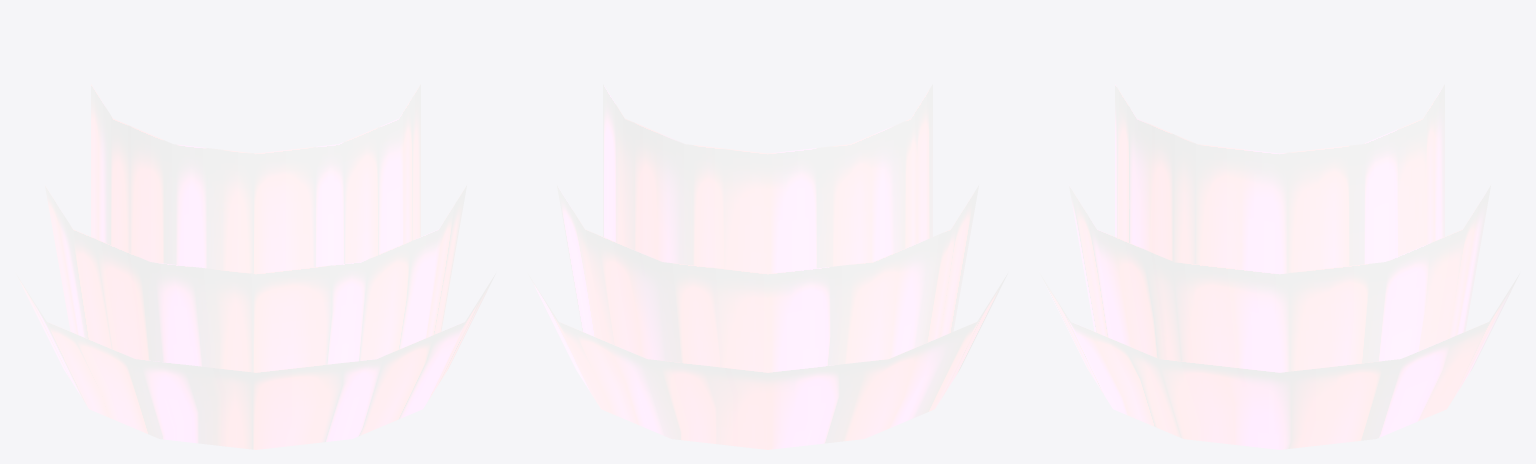
Rendered from sfx_common_condition_red.glb.
3 renders of one model, left to right at view 1: azimuth 30°, elevation 25°; view 2: azimuth 150°, elevation 25°; view 3: azimuth 270°, elevation 25°, orthographic.
Visible parts, largest first — view 1: sfx_common_condition_red_obj0, sfx_common_condition_red_obj1, sfx_common_condition_red_obj2; view 2: sfx_common_condition_red_obj0, sfx_common_condition_red_obj1, sfx_common_condition_red_obj2; view 3: sfx_common_condition_red_obj0, sfx_common_condition_red_obj1, sfx_common_condition_red_obj2.
Boxes of the visible parts, x1=… form: sfx_common_condition_red_obj0: x1=91, y1=84, x2=420, y2=273; sfx_common_condition_red_obj1: x1=45, y1=185, x2=466, y2=372; sfx_common_condition_red_obj2: x1=16, y1=273, x2=495, y2=449; sfx_common_condition_red_obj0: x1=603, y1=84, x2=932, y2=273; sfx_common_condition_red_obj1: x1=557, y1=185, x2=978, y2=372; sfx_common_condition_red_obj2: x1=528, y1=273, x2=1007, y2=449; sfx_common_condition_red_obj0: x1=1115, y1=84, x2=1444, y2=273; sfx_common_condition_red_obj1: x1=1069, y1=185, x2=1490, y2=372; sfx_common_condition_red_obj2: x1=1040, y1=273, x2=1519, y2=449.
Size of the model in its own units: 0.7606 by 0.4948 by 0.7606.
1 material, 1 textured.
